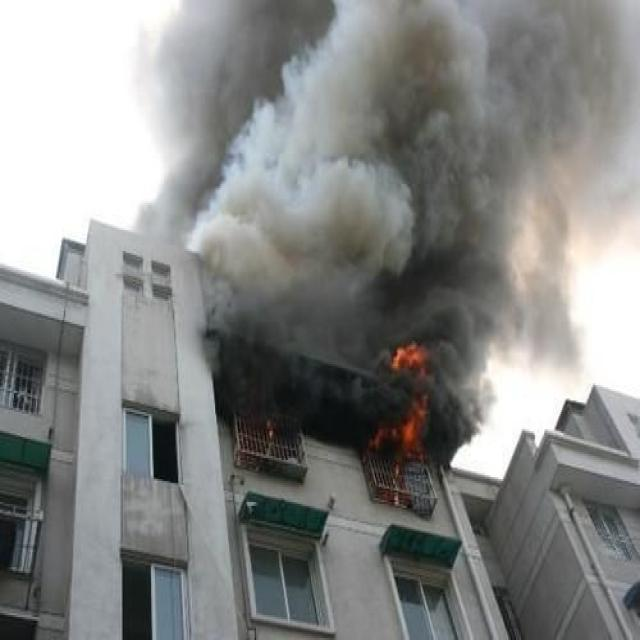Fire: (370, 338, 430, 448)
Smoke: (130, 2, 640, 464)
